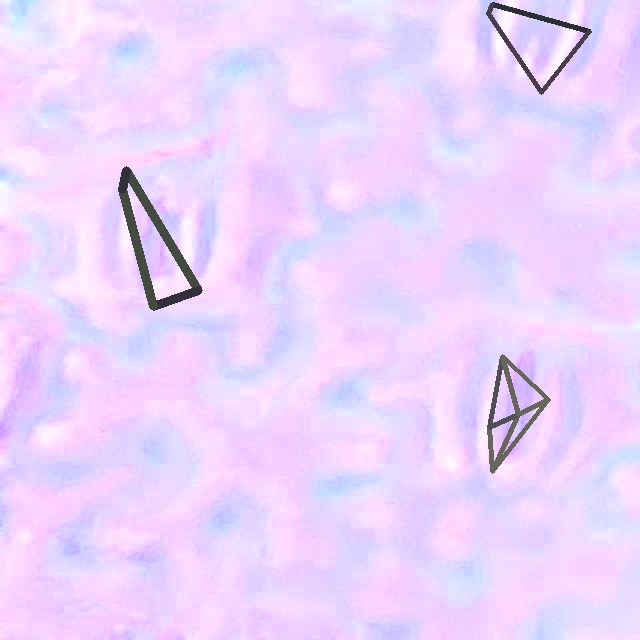open: (118, 166, 201, 309), (486, 2, 591, 94), (487, 354, 550, 473)
